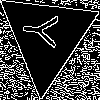Y: (22, 12, 67, 50)
